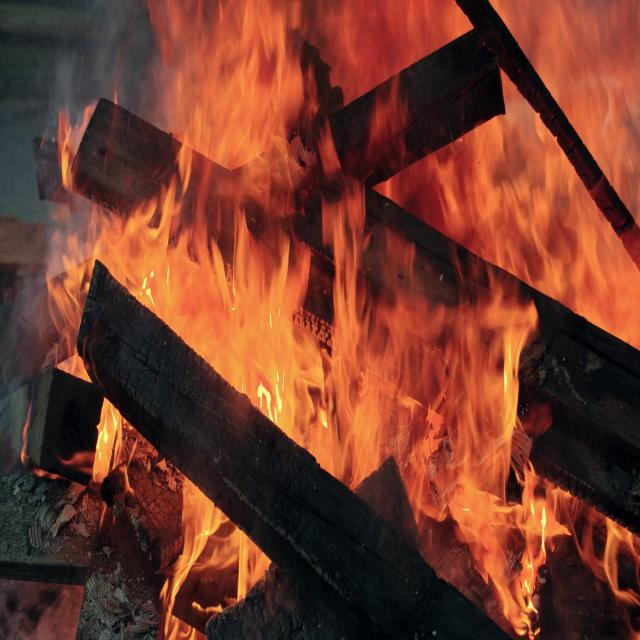Fire: (350, 201, 549, 637), (163, 130, 350, 471), (431, 104, 632, 302), (145, 0, 311, 217), (525, 0, 640, 262), (44, 170, 106, 365), (325, 186, 367, 446), (557, 499, 640, 612), (332, 0, 469, 62), (167, 479, 239, 595), (93, 218, 174, 292), (597, 277, 640, 345), (95, 404, 120, 489)
